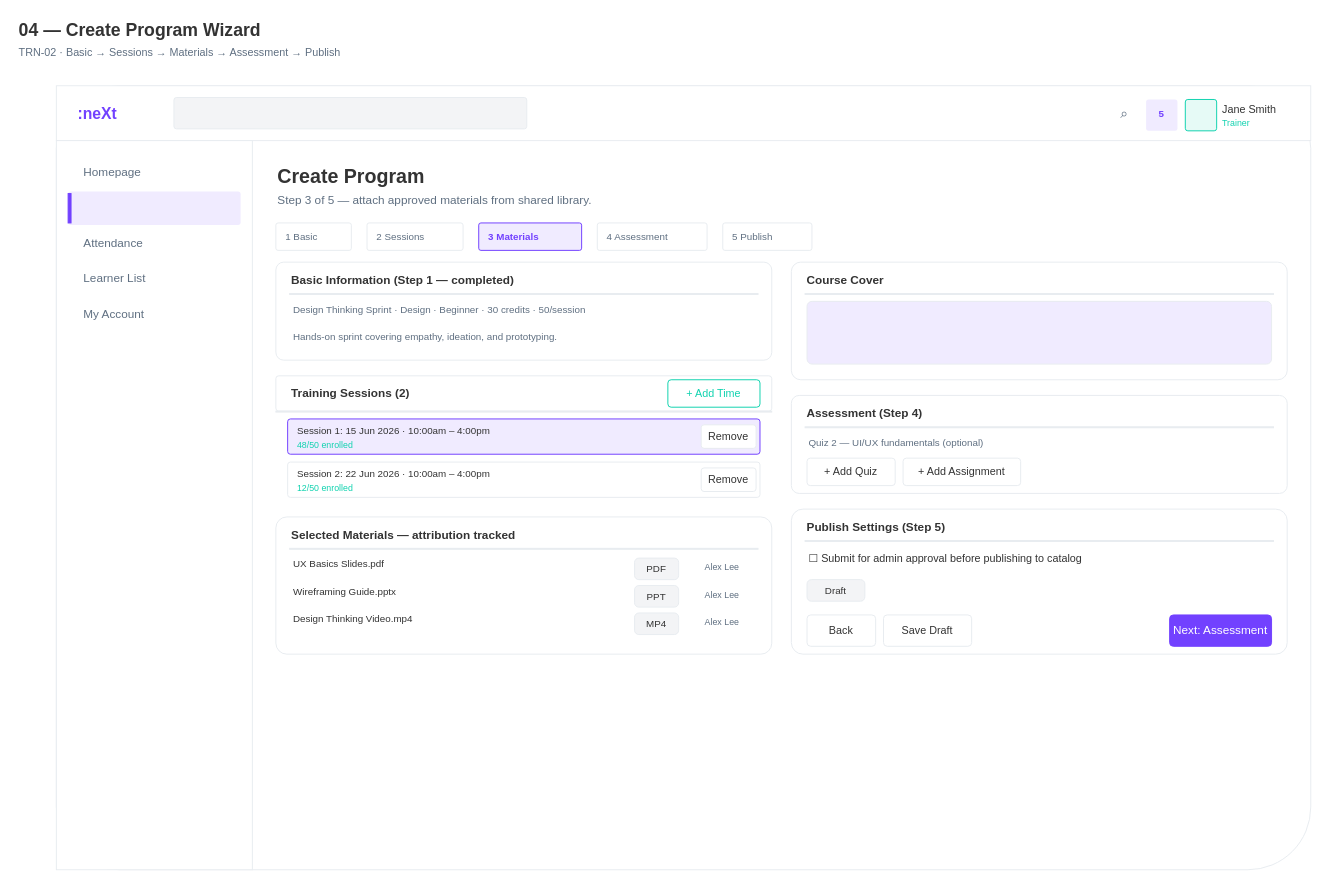
The diagram is 1328 pixels wide and 887 high, and some of its shapes have lost their labels. Each missing label, with the centre of its shape:
"Course" goes at point (154, 207).
"Search courses, learners, reports..." goes at point (350, 113).
"Upload cover image" goes at point (1039, 332).
